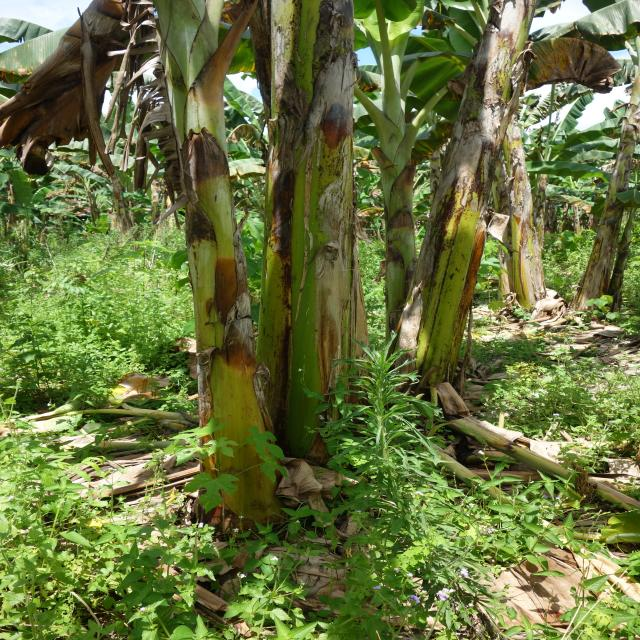Banana-plant: (148, 2, 276, 530), (395, 0, 544, 408), (255, 1, 381, 482), (364, 48, 432, 373)
